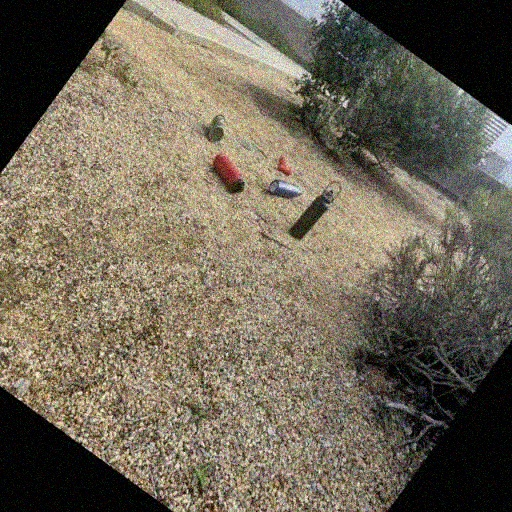bottle: (284, 172, 348, 246), (198, 148, 257, 202), (192, 106, 239, 154), (264, 170, 306, 212)
mallet: (269, 150, 299, 182)
